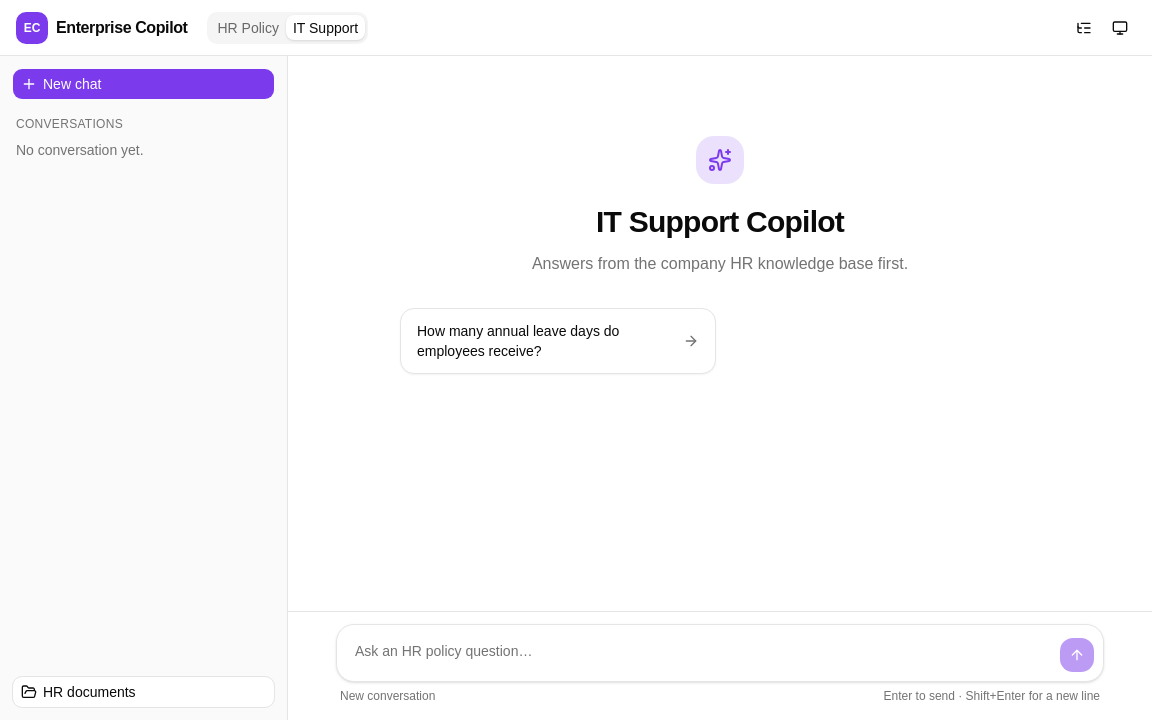
ChatPage › shows the IT ticket priority
The image size is (1152, 720).
Type "I clicked a phishing link" into the text box named "Your question" at [698, 653], box [345,633,1051,673]
Then press Enter
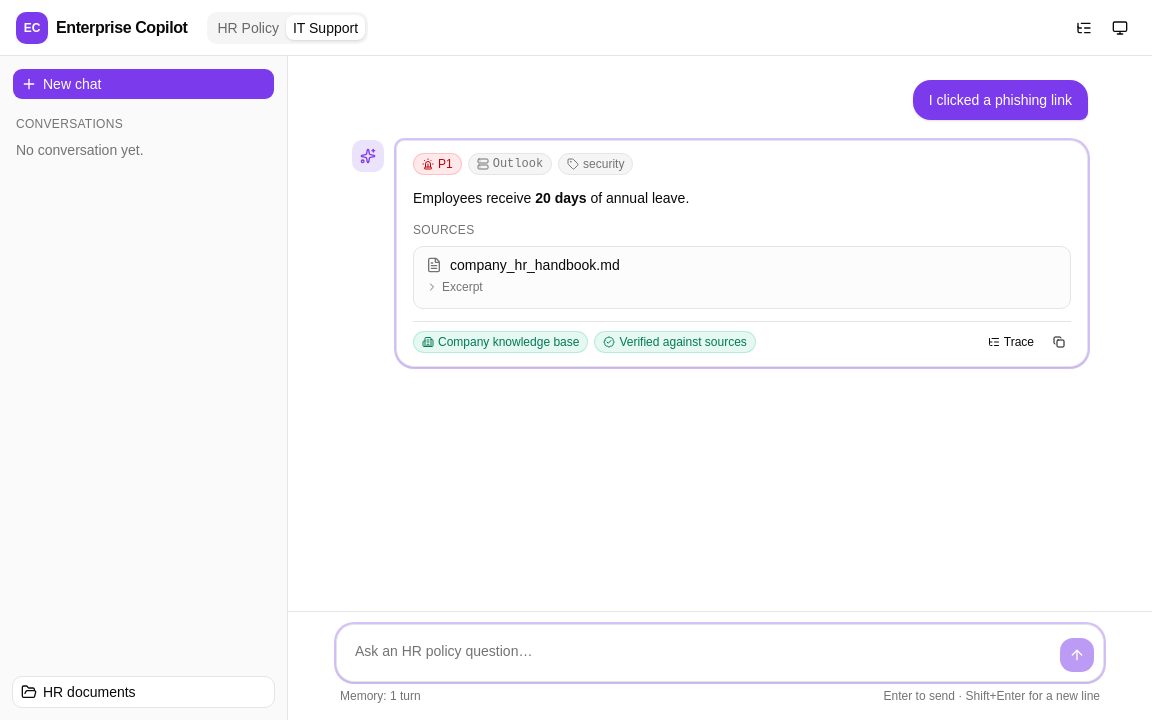
Expected: the text "Outlook" is shown, [468,153,552,175]
